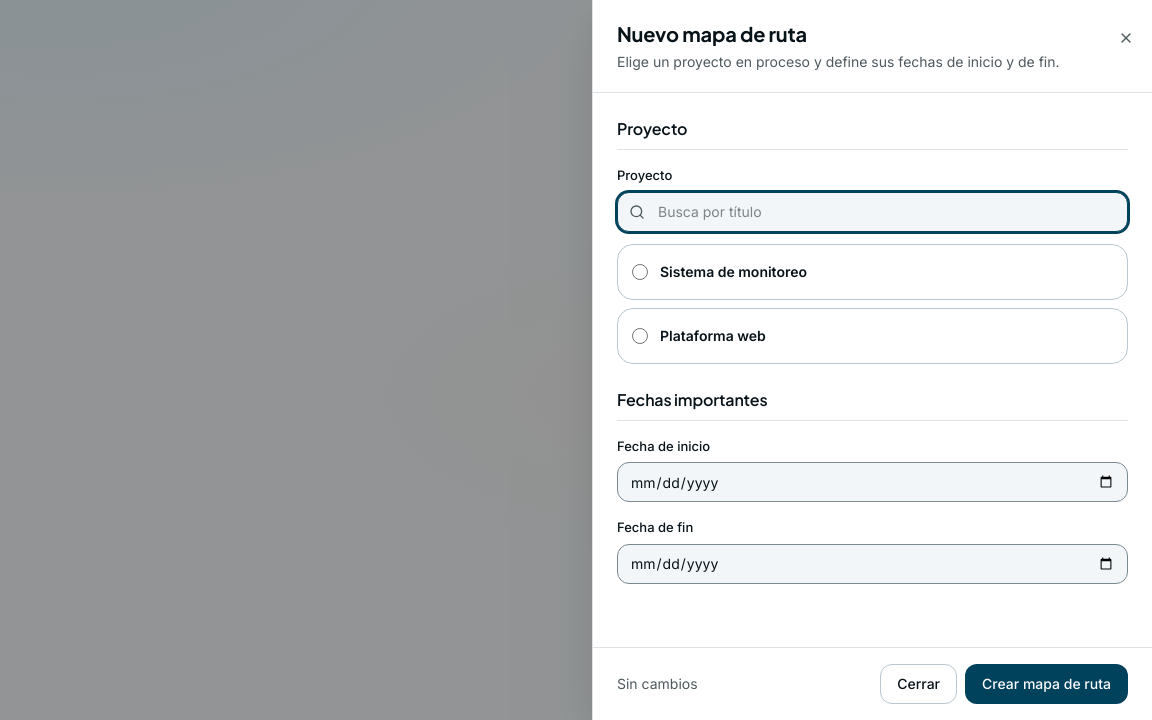
RegistrarMapaRutaPanel › los fieldErrors de un 400 se pintan junto a su campo
This screenshot has width=1152, height=720.
Step 1. Type "2026-10-22" into the date field labelled "Fecha de inicio" → (872,482), box [617,462,1128,502]
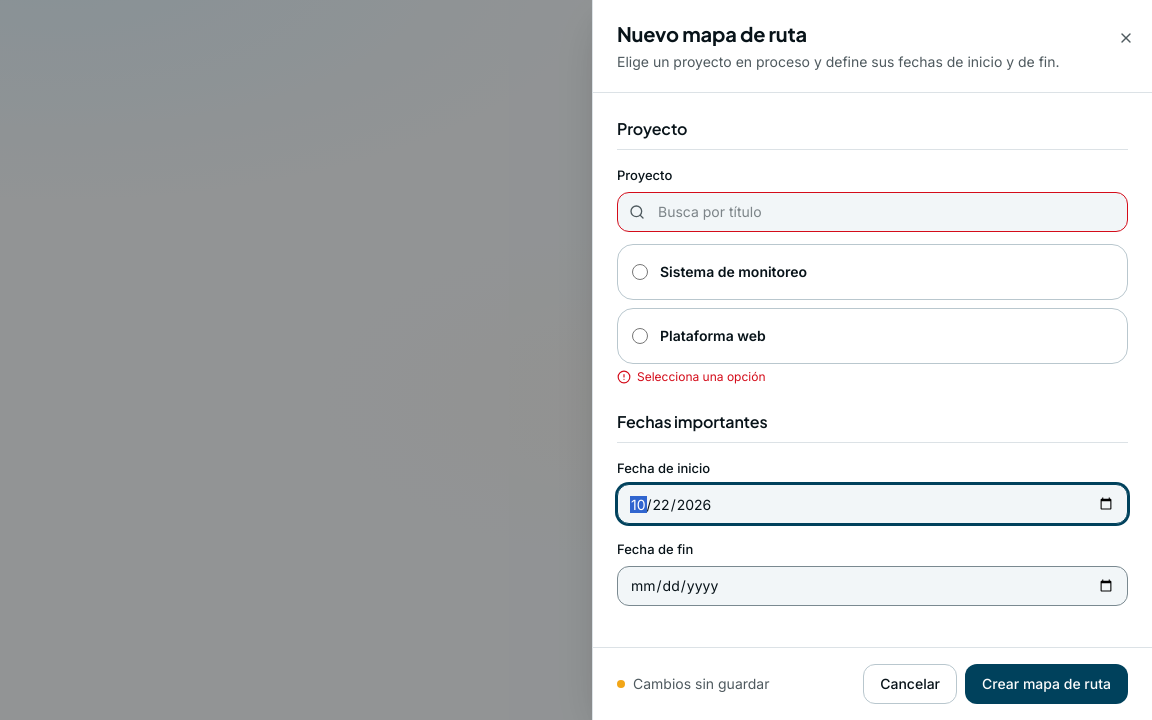
Step 2. Type "2026-12-01" into the date field labelled "Fecha de fin" → (872,586), box [617,566,1128,606]
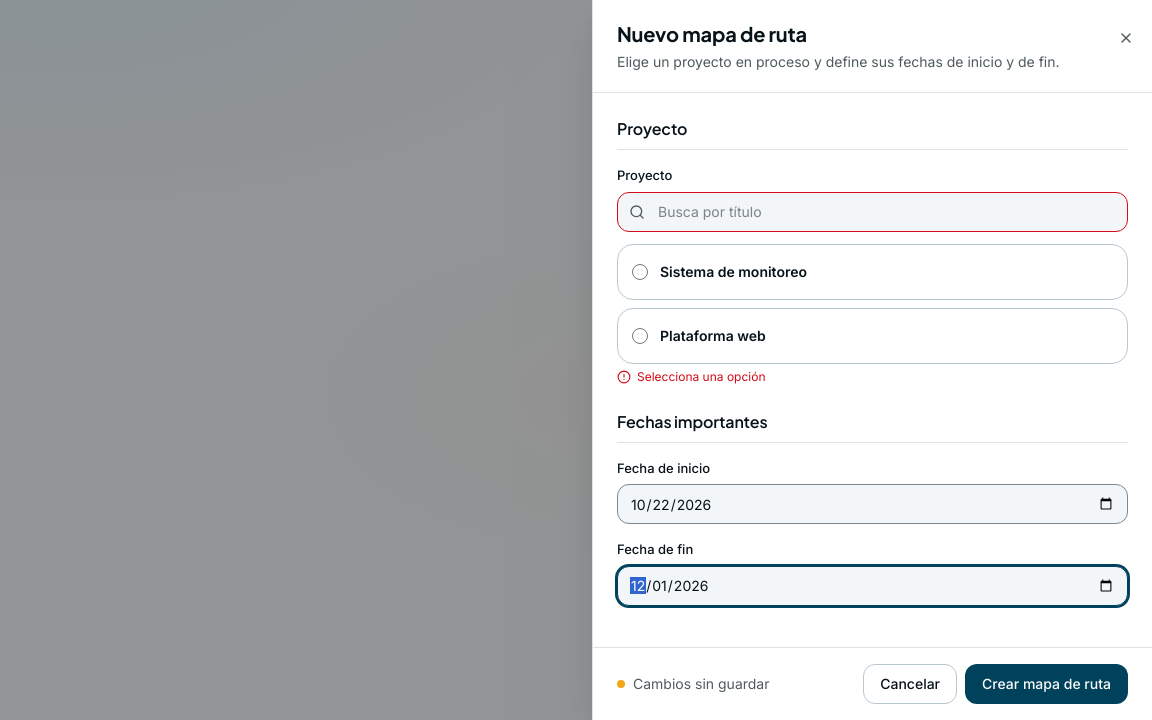
Step 3. Click the radio button labelled "Sistema de monitoreo" → (640,272), box [632,264,648,280]
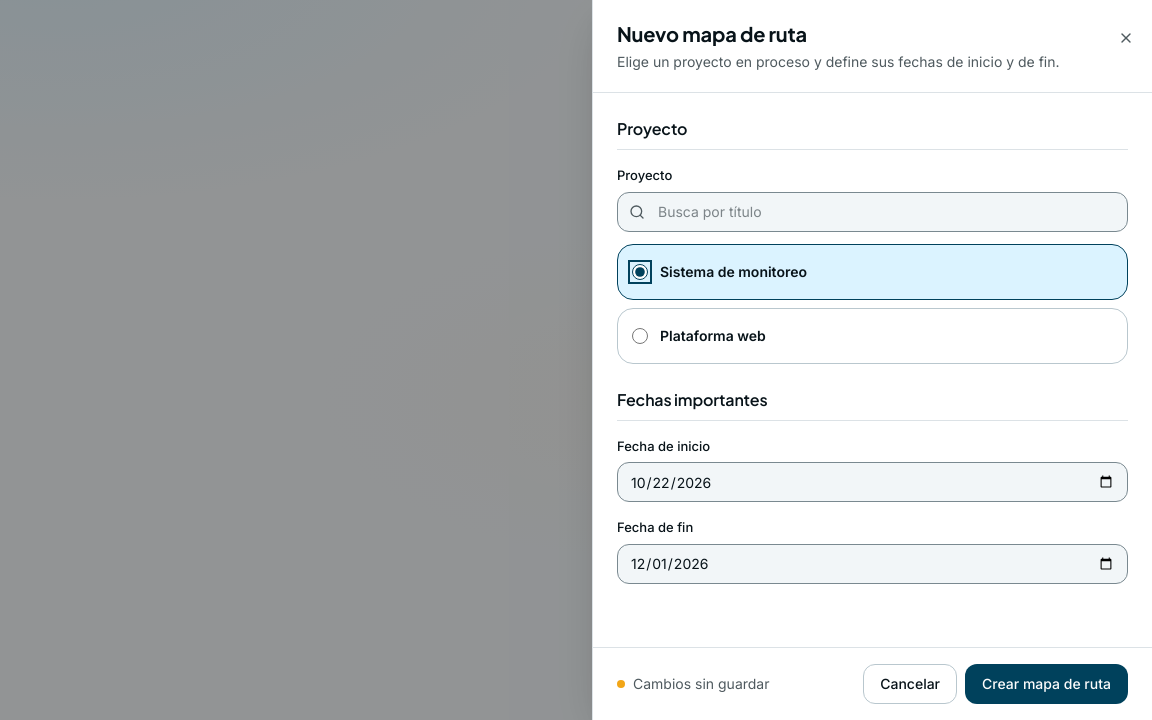
Step 4. Click the button "Crear mapa de ruta" → (1046,684), box [965,664,1128,704]
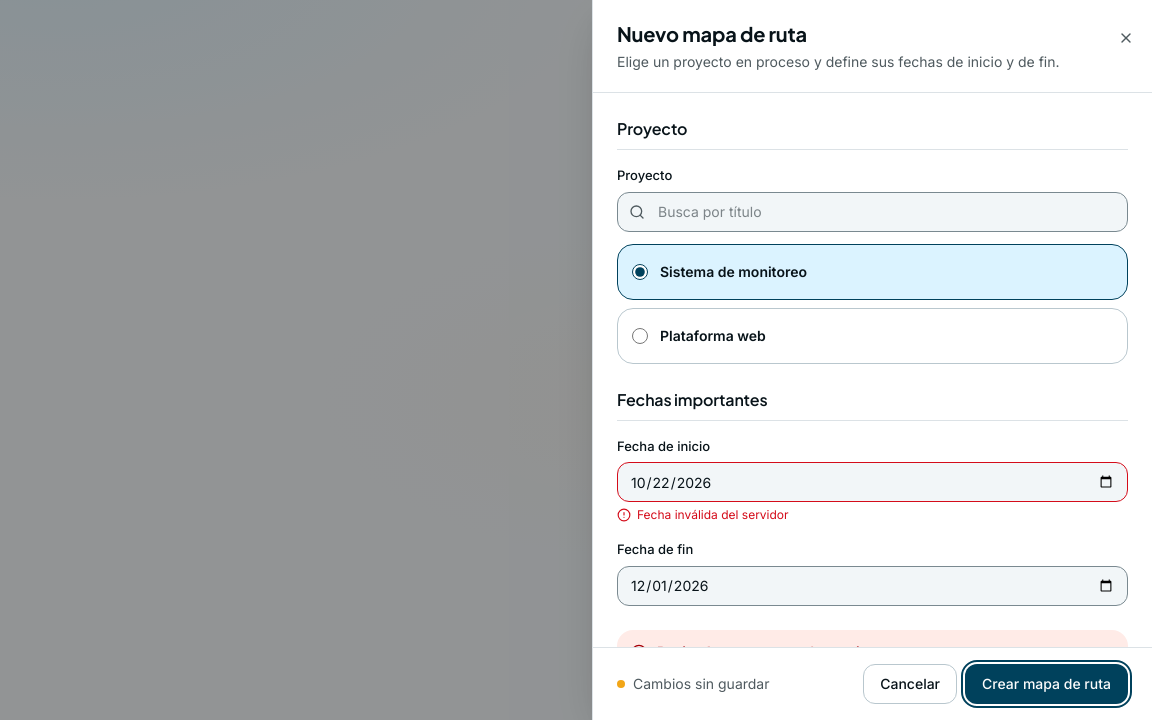
Check: the text "Fecha inválida del servidor" is shown, box [617,506,789,524]
